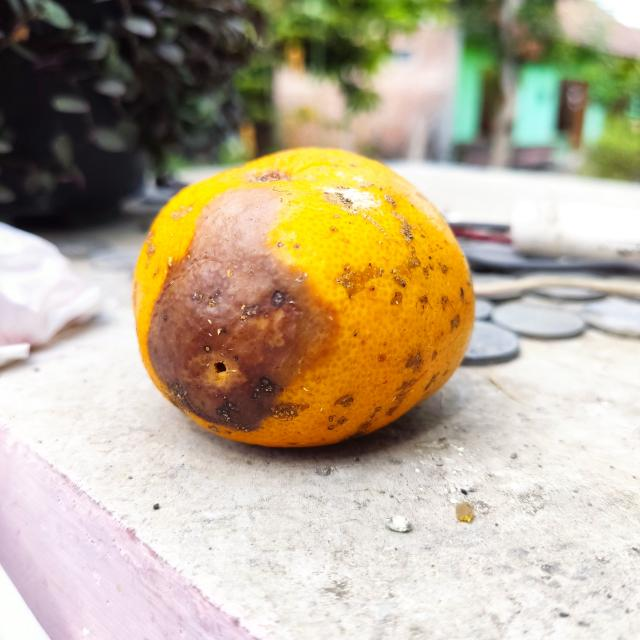orange: (127, 146, 478, 452)
